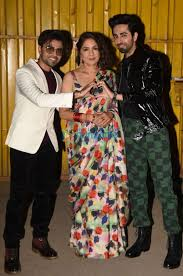Bad: (69, 13, 181, 276), (4, 30, 113, 276)
